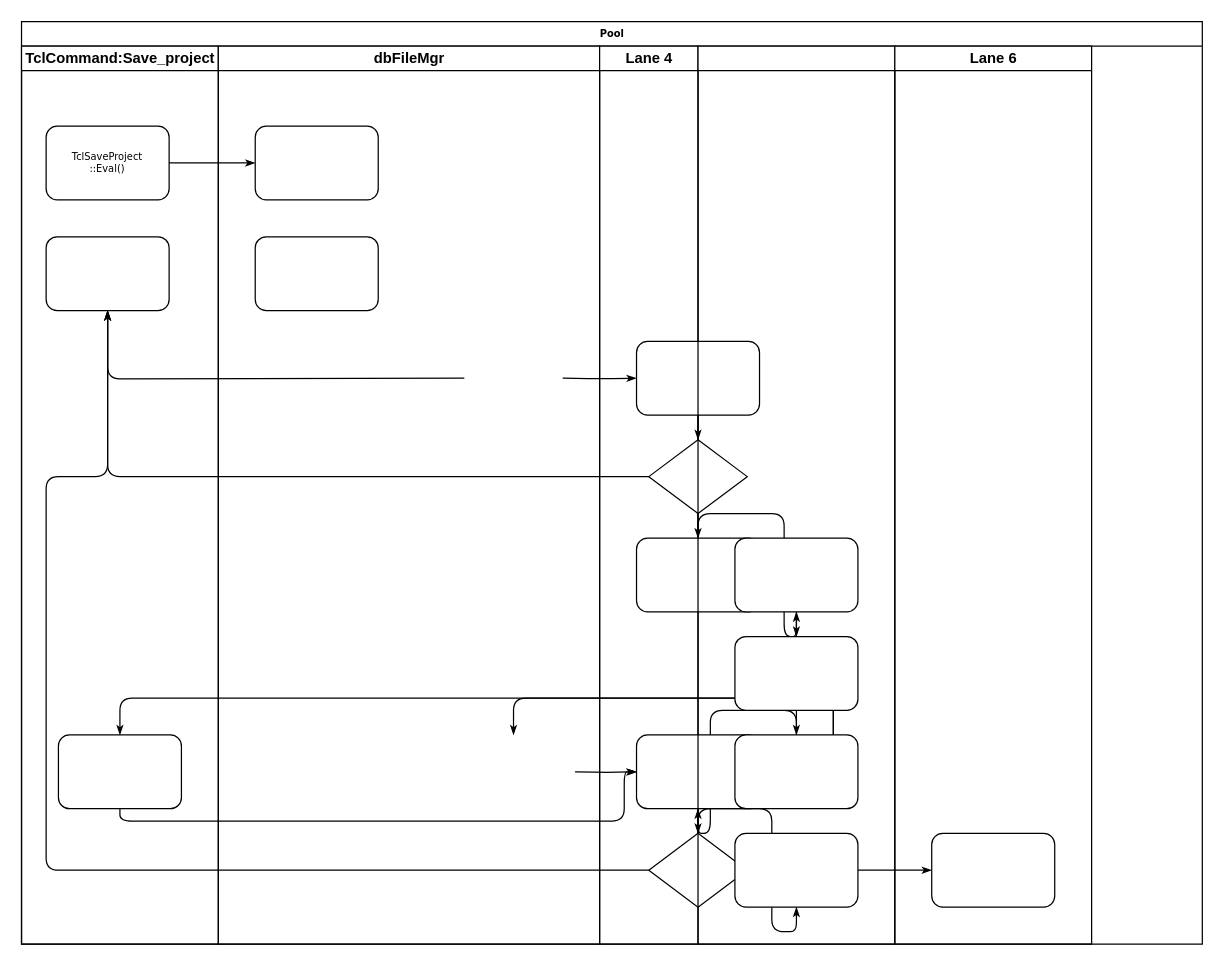
Some shapes in this 1224 by 966 pixel diagram are drawn without their labels. The shapes that lost their labels are listed below. From the top down, each one's box as (x1, y1, x2, y2) in pixels, then its label:
(254, 125, 378, 200): SaveProject
(254, 236, 378, 311): Init_Project & Prepare for Write Databse
(697, 45, 895, 944): Lane 5
